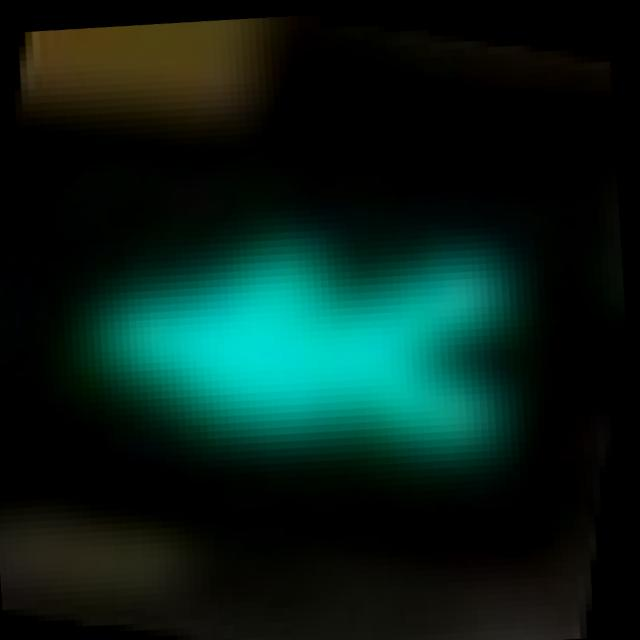green_light: (48, 152, 555, 505)
